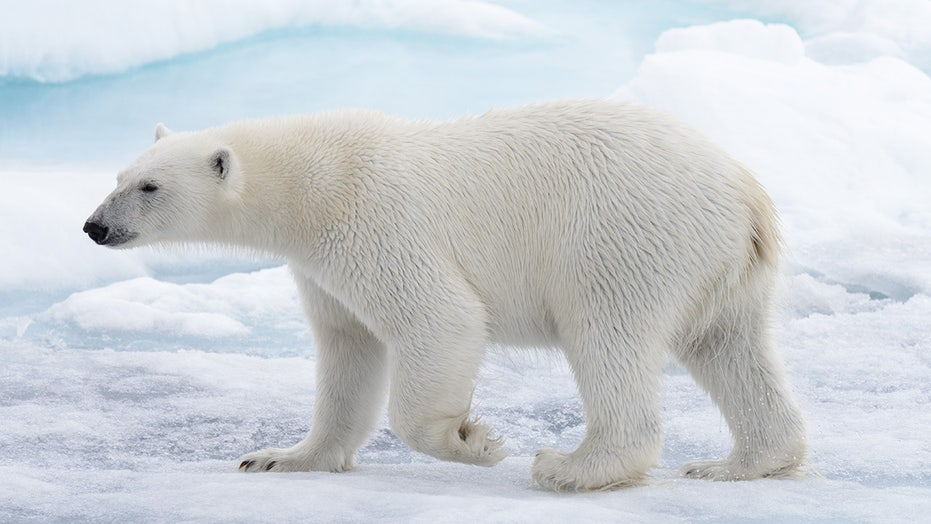PolarBear: (65, 101, 820, 486)
